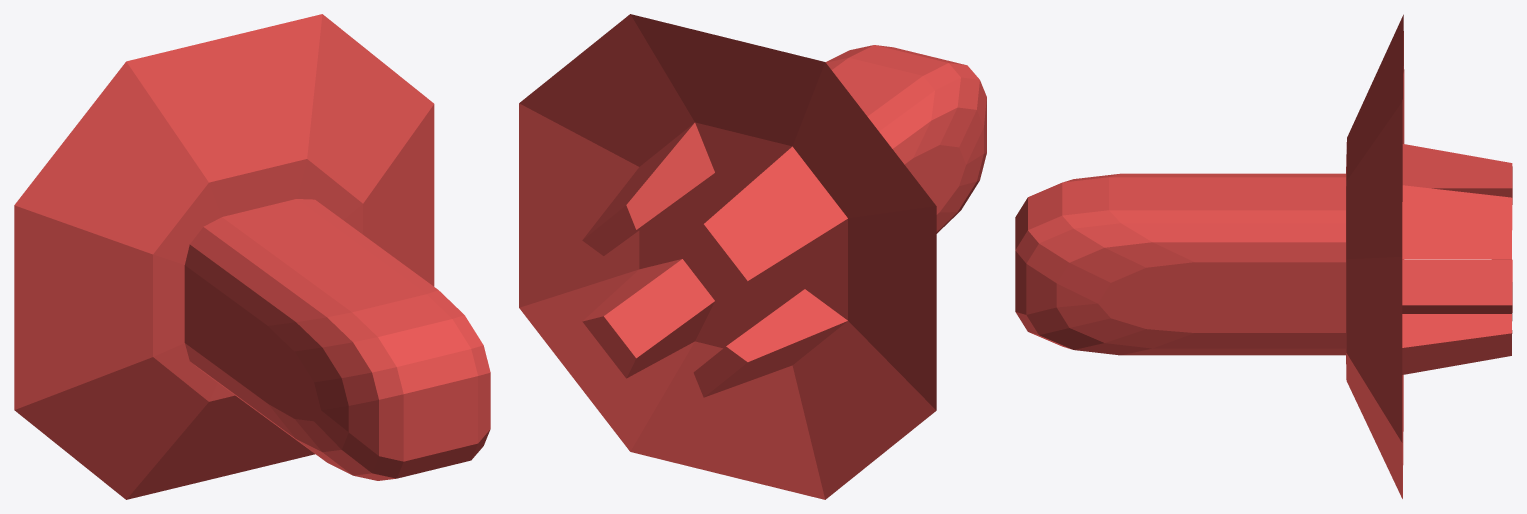
Rendered from tower_microwave.gltf.
3 renders of one model, left to right at view 1: azimuth 30°, elevation 25°; view 2: azimuth 150°, elevation 25°; view 3: azimuth 270°, elevation 25°, orthographic. The views are drawn at different scales.
Parts seen in each view (by area): view 1: Tower_Top_Microwave; view 2: Tower_Top_Microwave; view 3: Tower_Top_Microwave.
Part boxes in pixels (x1,y1,x2,y2): Tower_Top_Microwave: [14, 14, 490, 499]; Tower_Top_Microwave: [519, 14, 986, 499]; Tower_Top_Microwave: [1015, 14, 1512, 498].
Bounding box in the file's own units: 0.07 × 0.07 × 0.0791.
